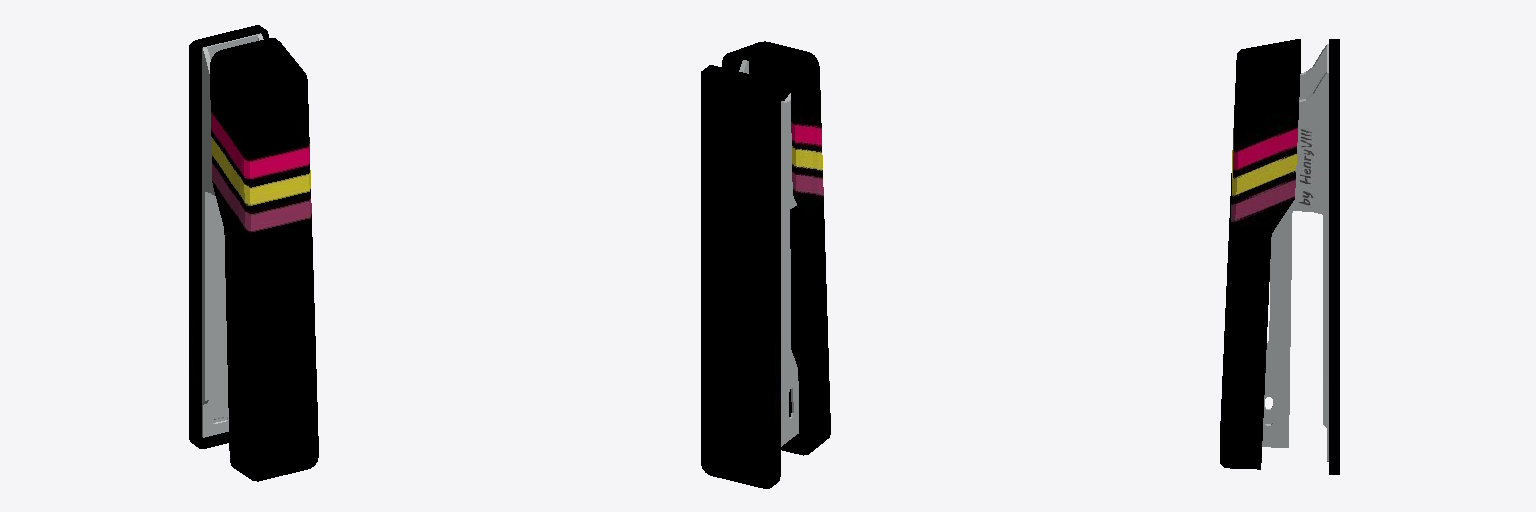
3 views of the same model, side by side, from view 1: azimuth 30°, elevation 25°; view 2: azimuth 150°, elevation 25°; view 3: azimuth 270°, elevation 25° (orthographic).
Parts seen in each view (by area): view 1: defaultMaterial.003, defaultMaterial.001, defaultMaterial.002; view 2: defaultMaterial.002, defaultMaterial.003, defaultMaterial, defaultMaterial.001; view 3: defaultMaterial.003, defaultMaterial.001, defaultMaterial, defaultMaterial.002.
Boxes of the visible parts, x1=… form: defaultMaterial.003: x1=210, y1=38, x2=318, y2=481; defaultMaterial.001: x1=202, y1=33, x2=263, y2=437; defaultMaterial.002: x1=189, y1=25, x2=268, y2=448; defaultMaterial.002: x1=701, y1=65, x2=780, y2=488; defaultMaterial.003: x1=722, y1=41, x2=830, y2=455; defaultMaterial: x1=781, y1=210, x2=798, y2=446; defaultMaterial.001: x1=739, y1=60, x2=796, y2=216; defaultMaterial.003: x1=1220, y1=39, x2=1300, y2=469; defaultMaterial.001: x1=1287, y1=44, x2=1328, y2=461; defaultMaterial: x1=1262, y1=212, x2=1292, y2=447; defaultMaterial.002: x1=1329, y1=39, x2=1339, y2=474.
Size of the model in its own units: 0.0383 by 0.2 by 0.0533.
1 materials, 1 textured.